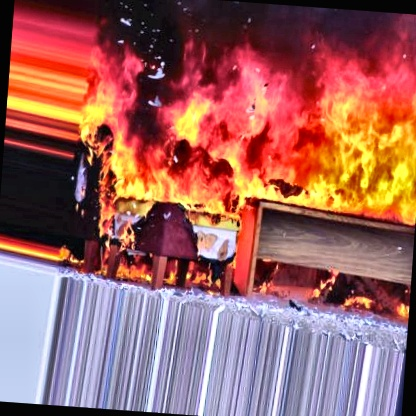fire: (27, 0, 416, 284)
